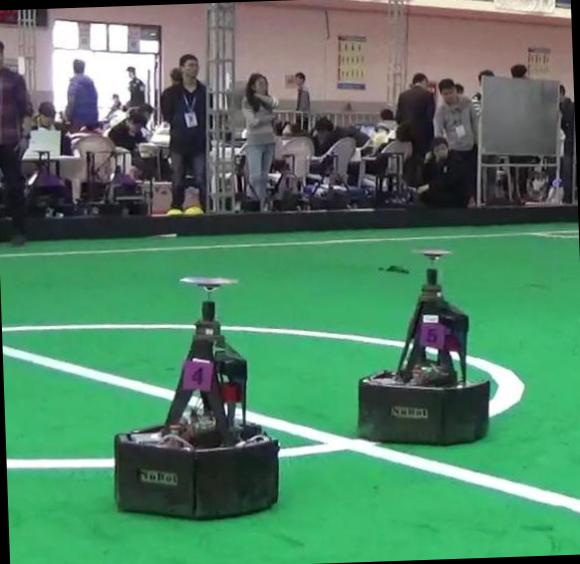ball: (182, 205, 205, 217), (166, 207, 182, 216)
person: (0, 42, 31, 245)
robot: (114, 299, 279, 520), (358, 267, 491, 445)
